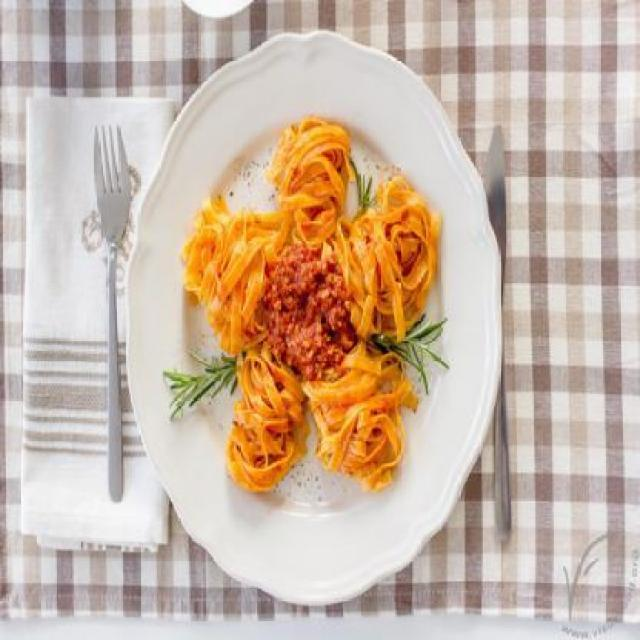Pasta al ragu: (164, 108, 486, 514)
